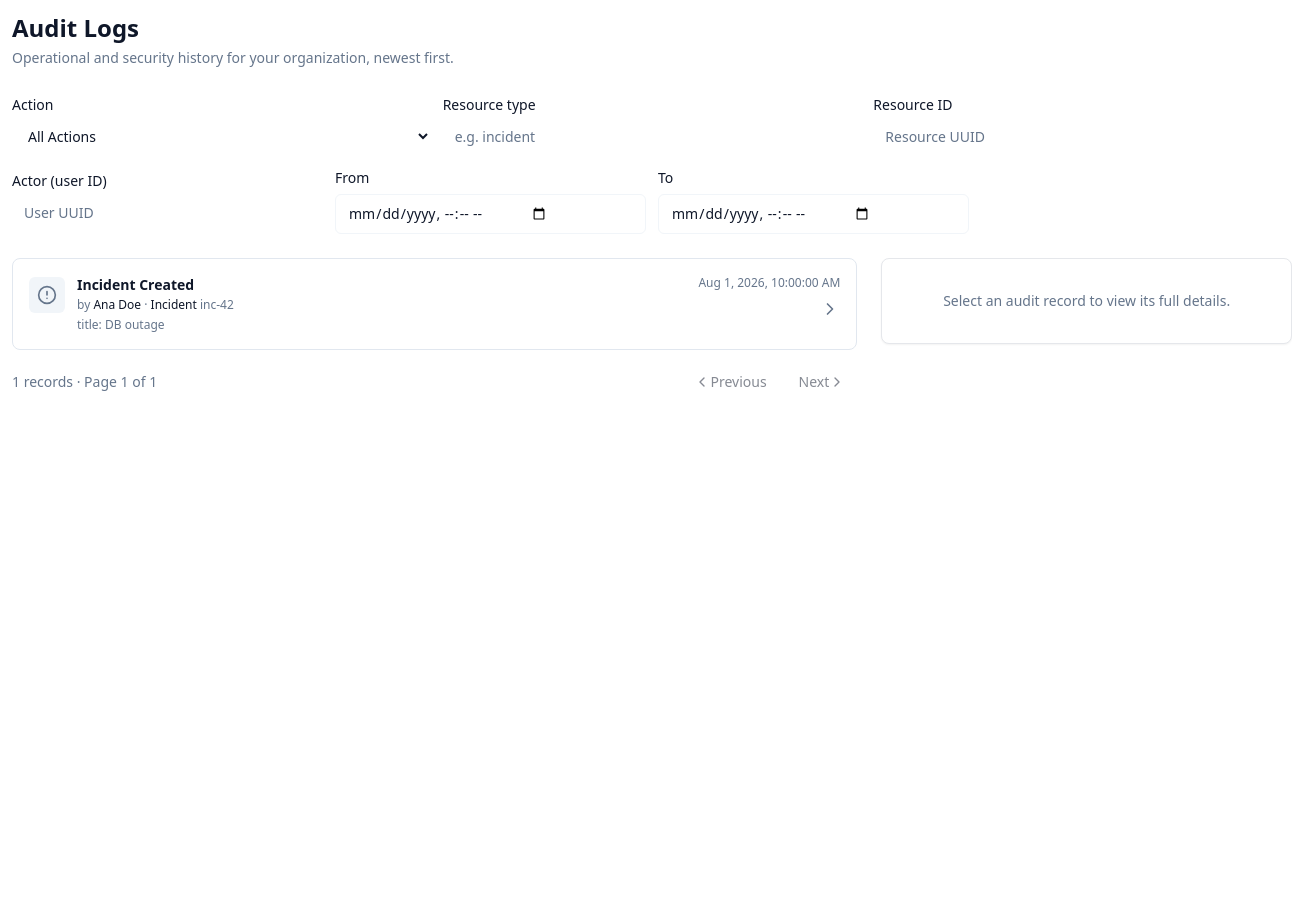
it: AuditLogsPage › closing the detail panel returns to the placeholder state
Step 1. Click the button with aria-label "View audit log: Incident Created" → click(47, 295), box [12,258,857,350]
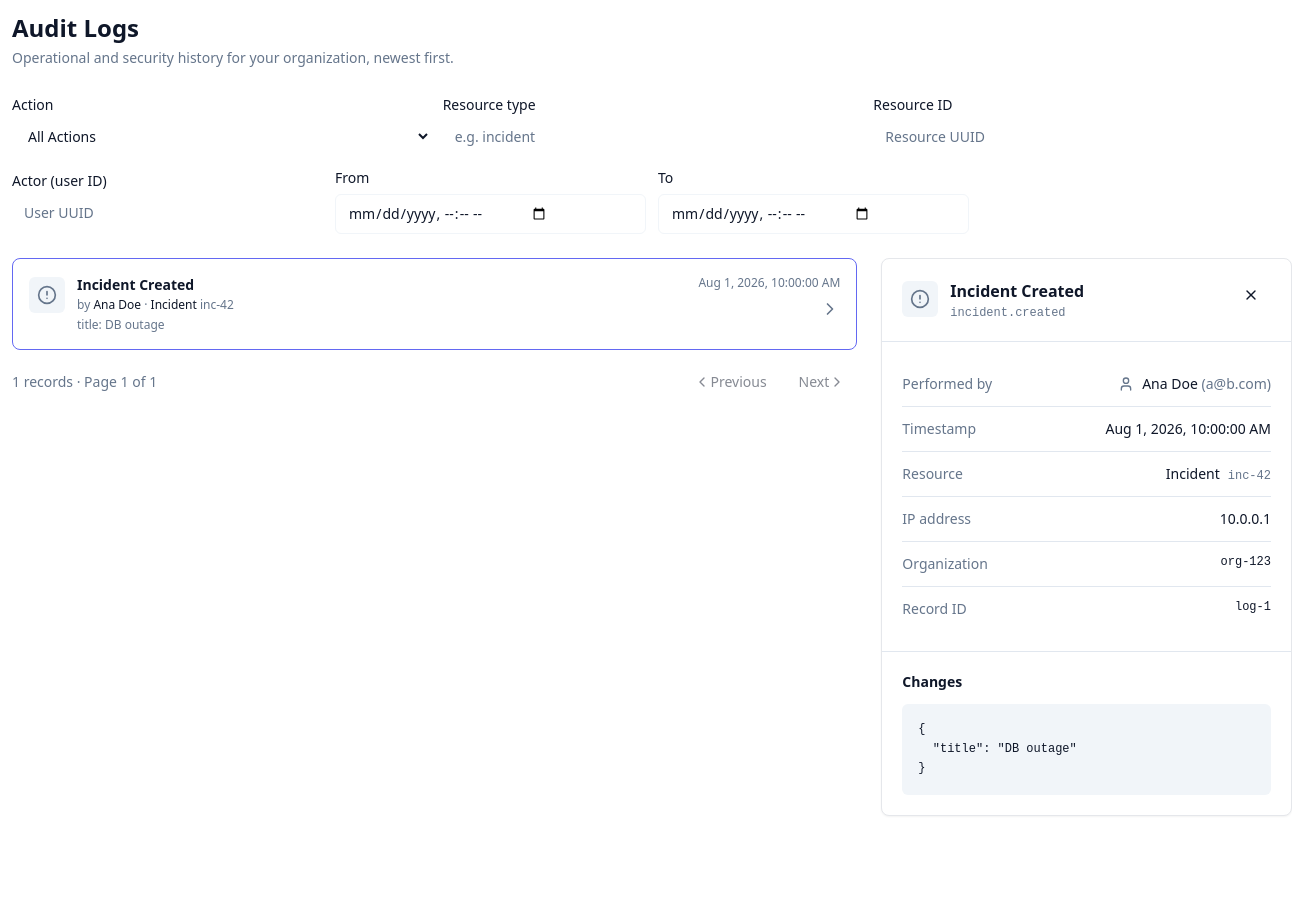
Step 2. Click the button named "Close audit record details" → click(1251, 295), box [1231,279,1271,311]
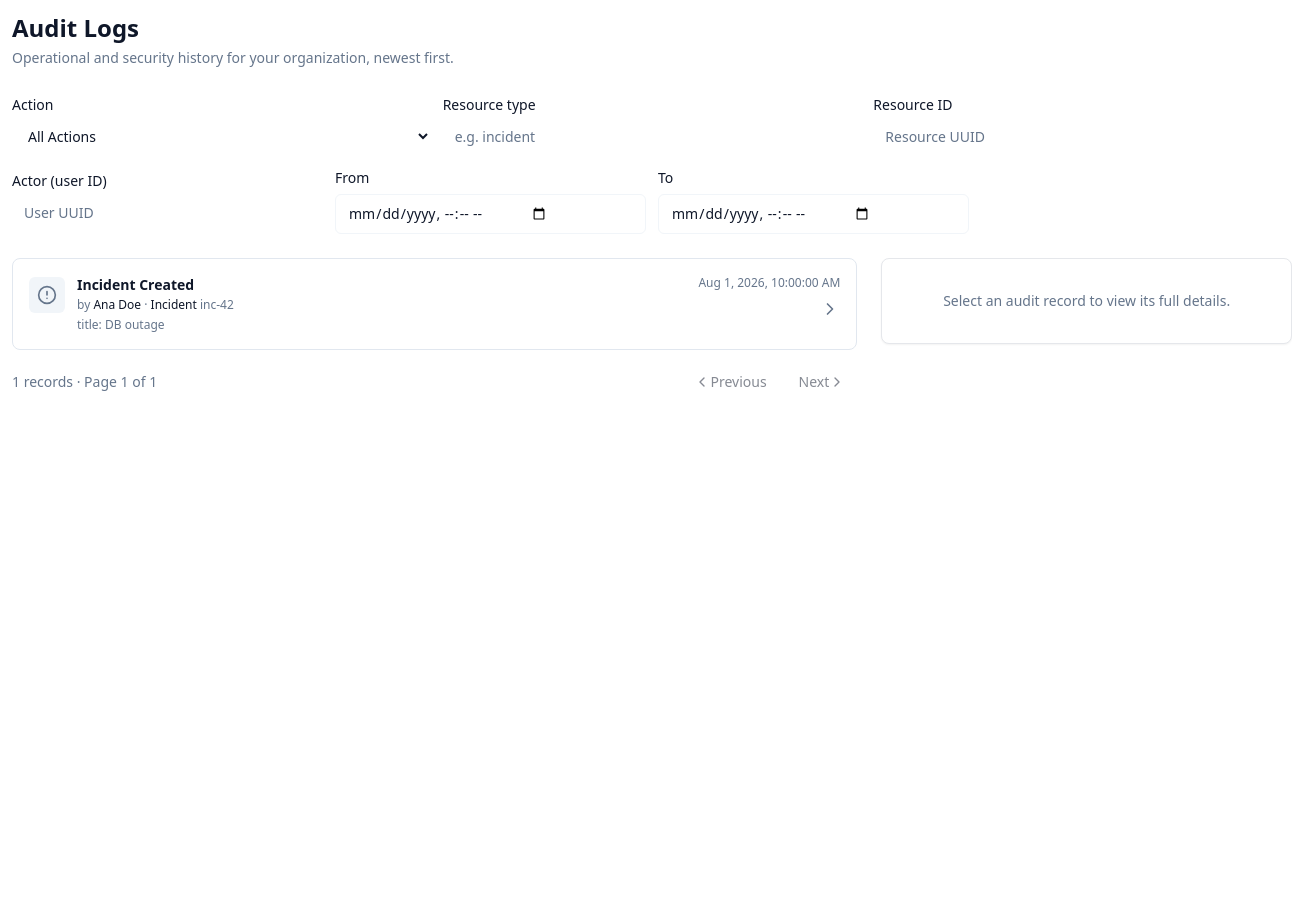
Check: the text "Select an audit record to view its full details." is shown, box [943,291,1230,310]
